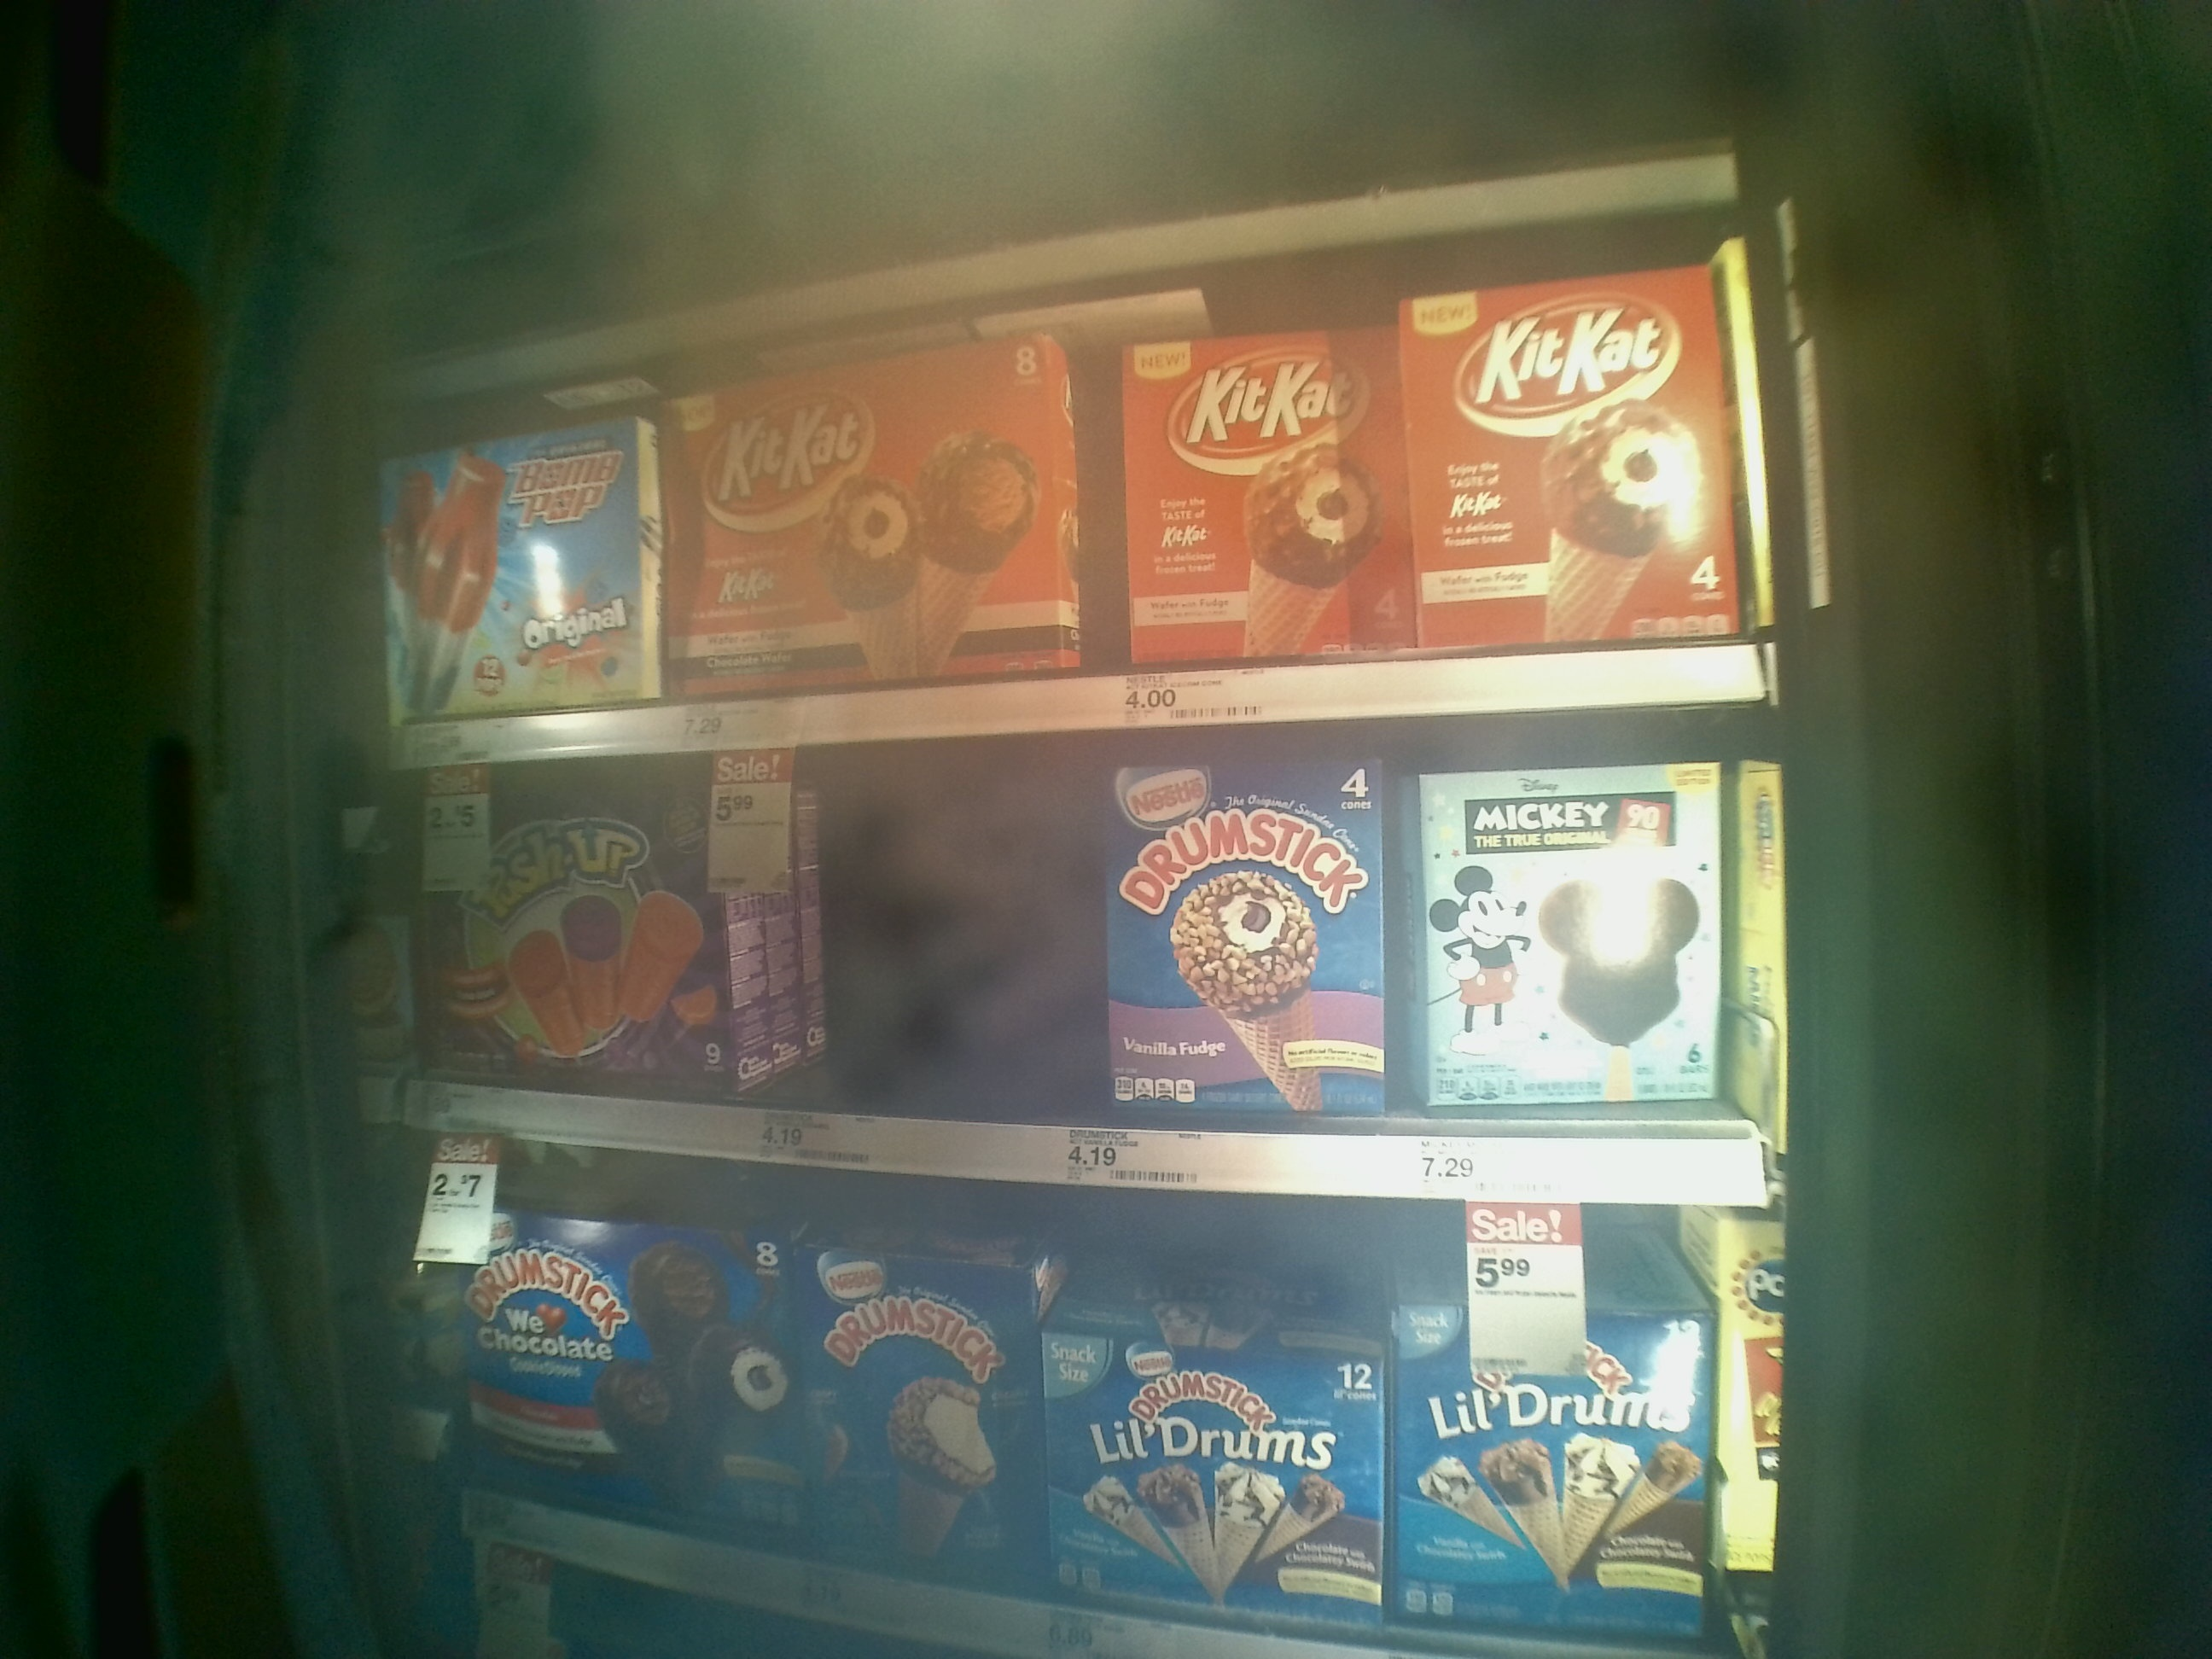shelf: (376, 239, 1780, 756), (380, 699, 1787, 1206)
